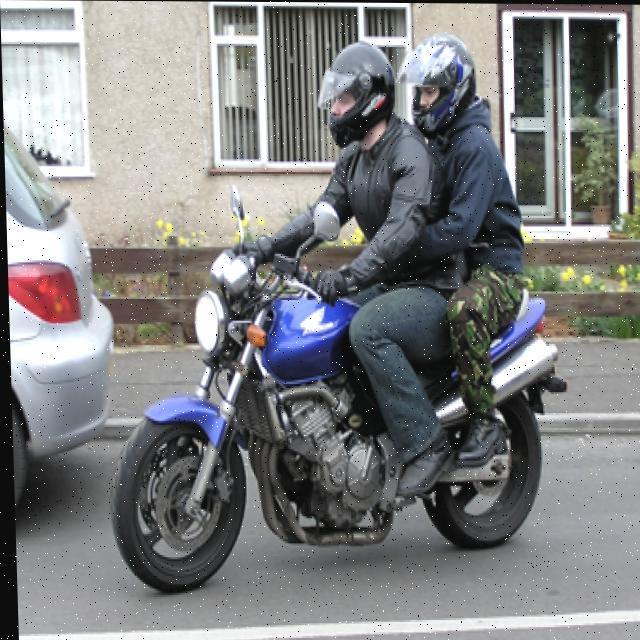Helmet: (396, 24, 476, 134), (314, 42, 392, 149)
